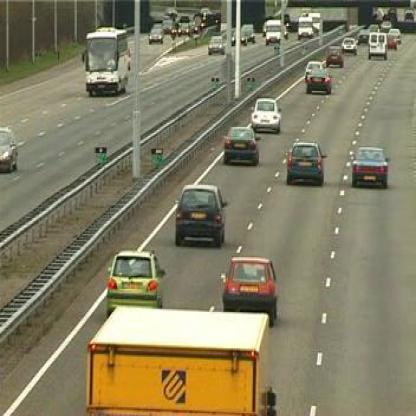other: (97, 295, 257, 405)
